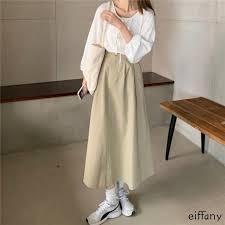skirt: (83, 51, 161, 197)
sweater: (78, 2, 156, 79)
